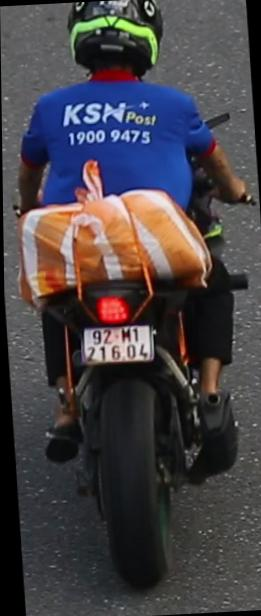LP: (73, 313, 161, 373)
helmet: (49, 0, 176, 101)
